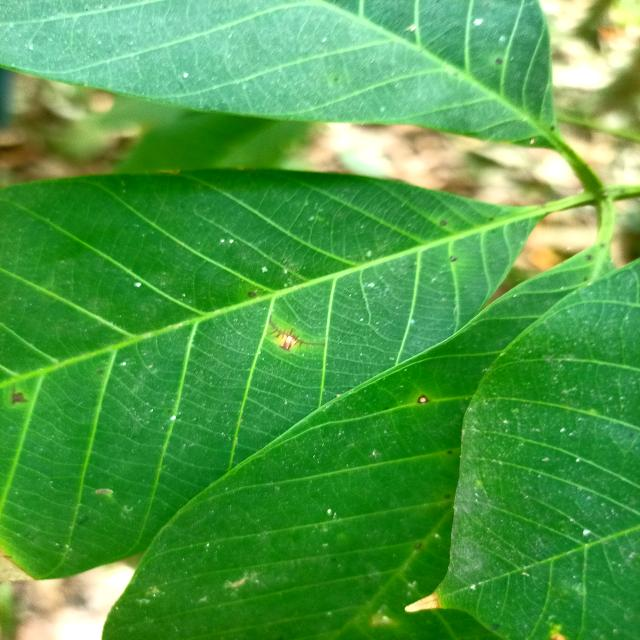Colletotrichum: (418, 395, 428, 403), (450, 255, 457, 262), (248, 292, 256, 298), (440, 220, 447, 226)
Corynespora: (268, 316, 326, 352)
Leaf-Blight: (404, 592, 442, 612)
